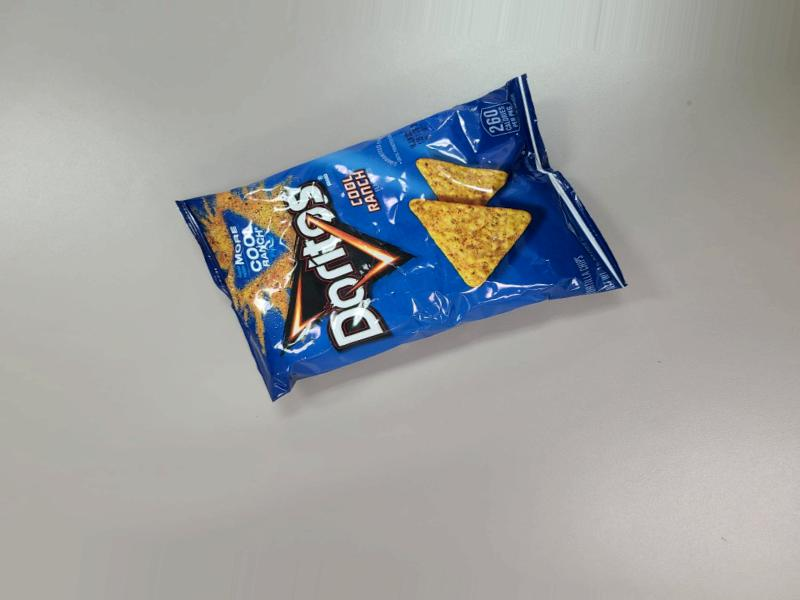doritos: (174, 65, 624, 411)
